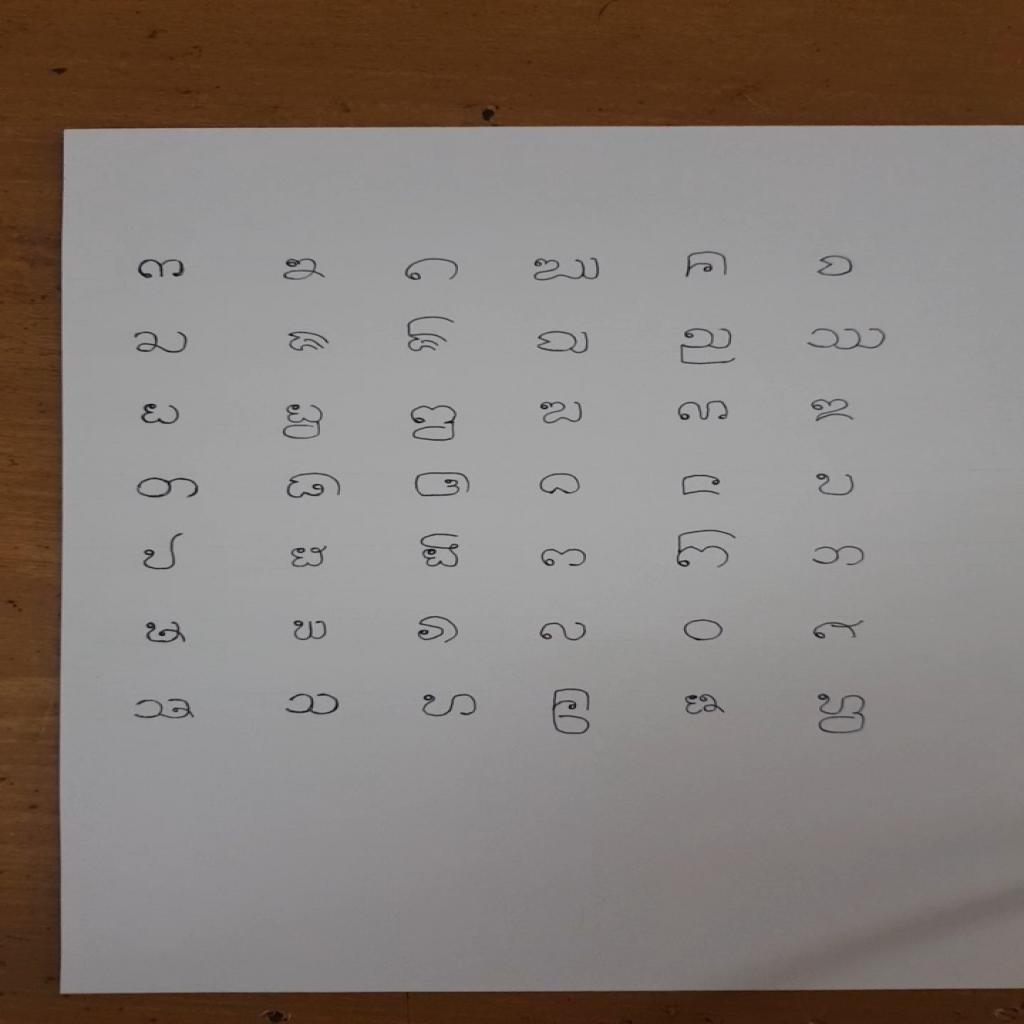LN001: (134, 256, 192, 282)
LN002: (276, 255, 332, 285)
LN003: (399, 255, 467, 286)
LN004: (527, 254, 608, 286)
LN005: (679, 247, 736, 284)
LN006: (810, 253, 860, 281)
LN007: (127, 328, 196, 359)
LN008: (283, 329, 336, 356)
LN009: (399, 314, 461, 359)
LN010: (531, 328, 597, 358)
LN011: (675, 324, 745, 370)
LN012: (801, 325, 895, 355)
LN013: (134, 400, 191, 430)
LN014: (278, 401, 333, 444)
LN015: (405, 404, 464, 447)
LN016: (535, 399, 593, 429)
LN017: (674, 398, 737, 425)
LN018: (803, 396, 865, 427)
LN019: (131, 473, 208, 503)
LN020: (279, 470, 350, 504)
LN021: (410, 468, 479, 500)
LN022: (535, 472, 588, 499)
LN023: (676, 471, 728, 501)
LN024: (810, 471, 861, 500)
LN025: (139, 530, 191, 574)
LN026: (284, 544, 332, 573)
LN027: (415, 531, 467, 572)
LN028: (536, 546, 594, 572)
LN029: (673, 528, 744, 572)
LN030: (807, 542, 872, 571)
LN031: (138, 617, 194, 648)
LN032: (286, 616, 336, 645)
LN033: (412, 613, 468, 648)
LN034: (536, 619, 595, 644)
LN035: (679, 616, 732, 646)
LN036: (807, 617, 873, 643)
LN037: (126, 696, 202, 727)
LN038: (277, 689, 350, 720)
LN039: (414, 690, 487, 722)
LN040: (546, 685, 600, 739)
LN041: (675, 689, 732, 719)
LN042: (811, 690, 872, 739)
